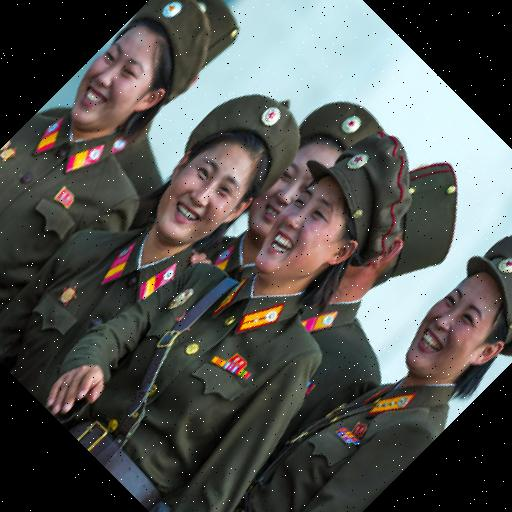north army: (0, 7, 512, 512)
